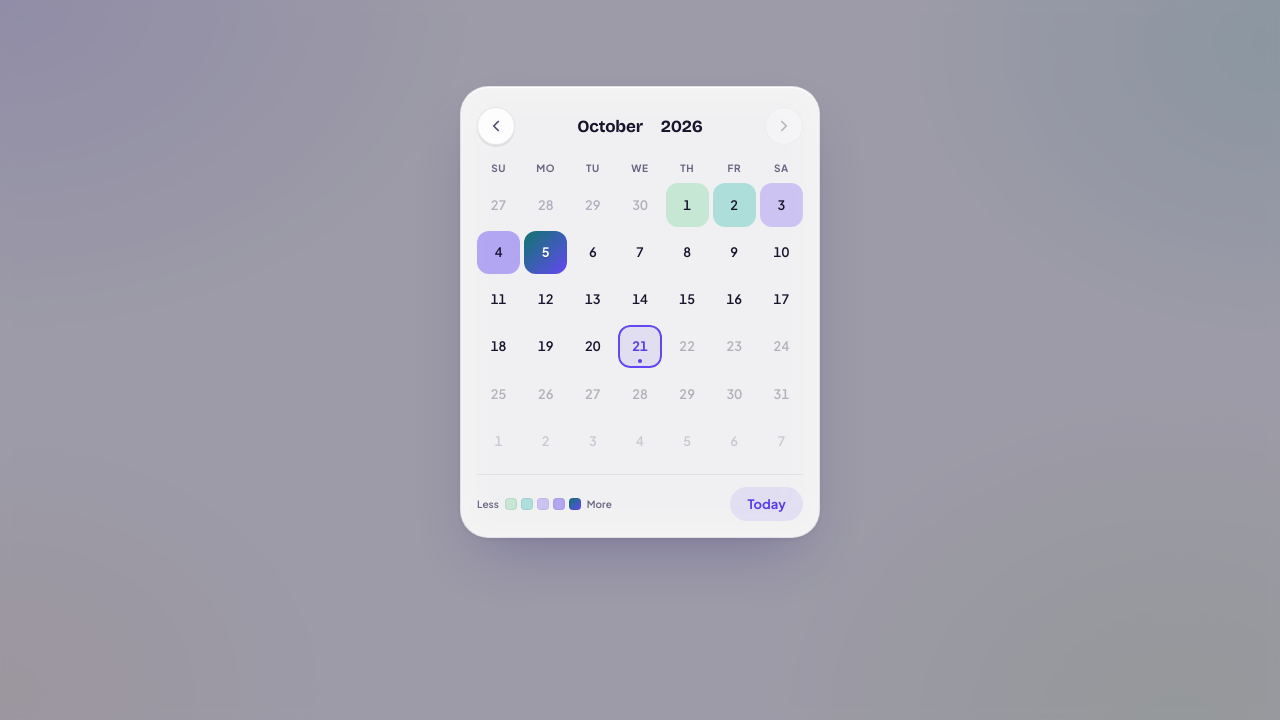
CalendarPicker › shows the heat map of logged hours with a legend
Expected: the text "More" is shown, top-left (587, 497), bottom-right (612, 511)
# The legend belongs to the day grid only
What coordinates should you click on to do the following:
click the button with aria-label "October, choose month"
I would click on:
 (610, 126)
Its box is top-left (569, 112), bottom-right (651, 141).
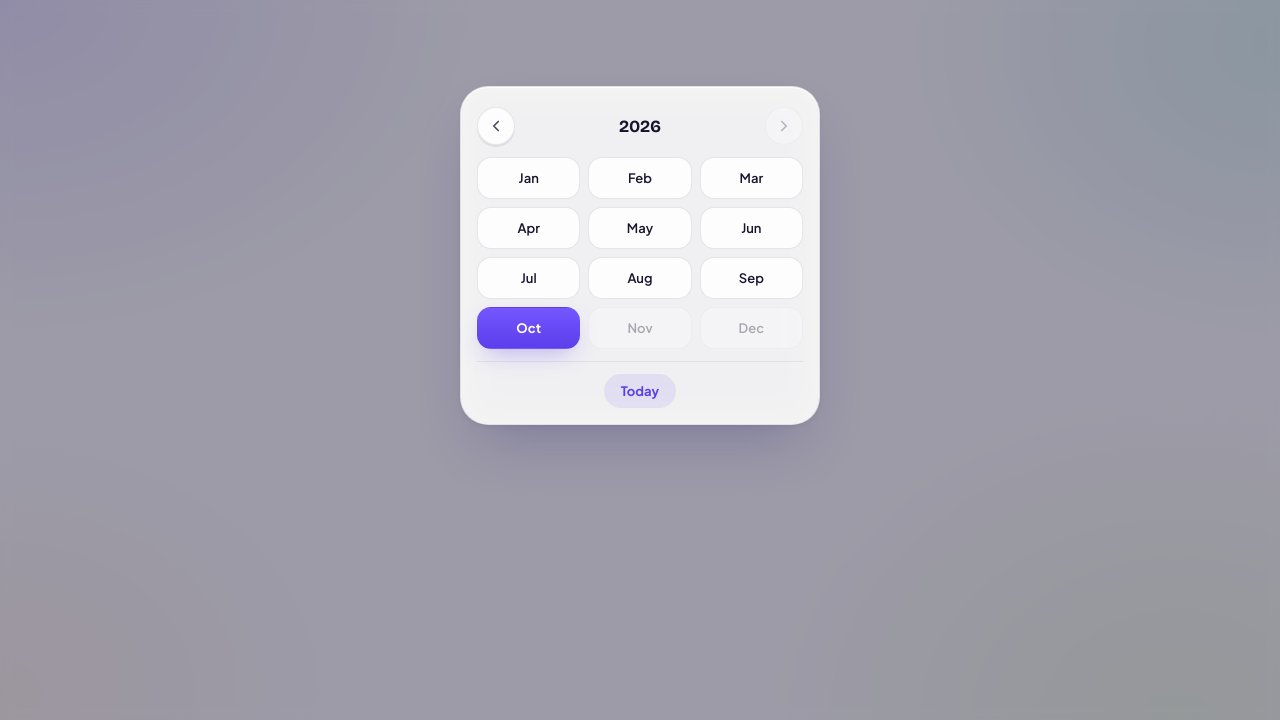
Expected: the text "Less" is gone
